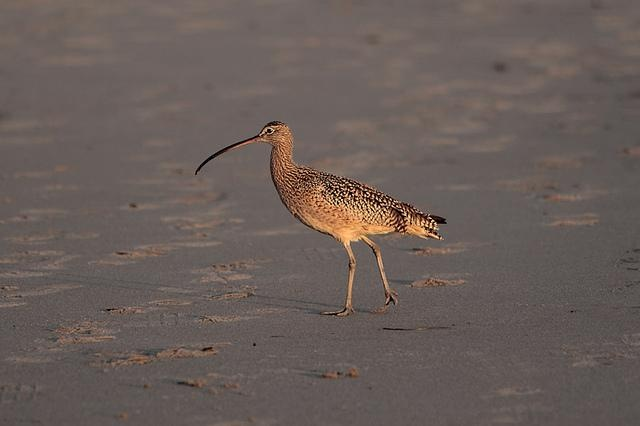bird: (189, 119, 448, 314)
